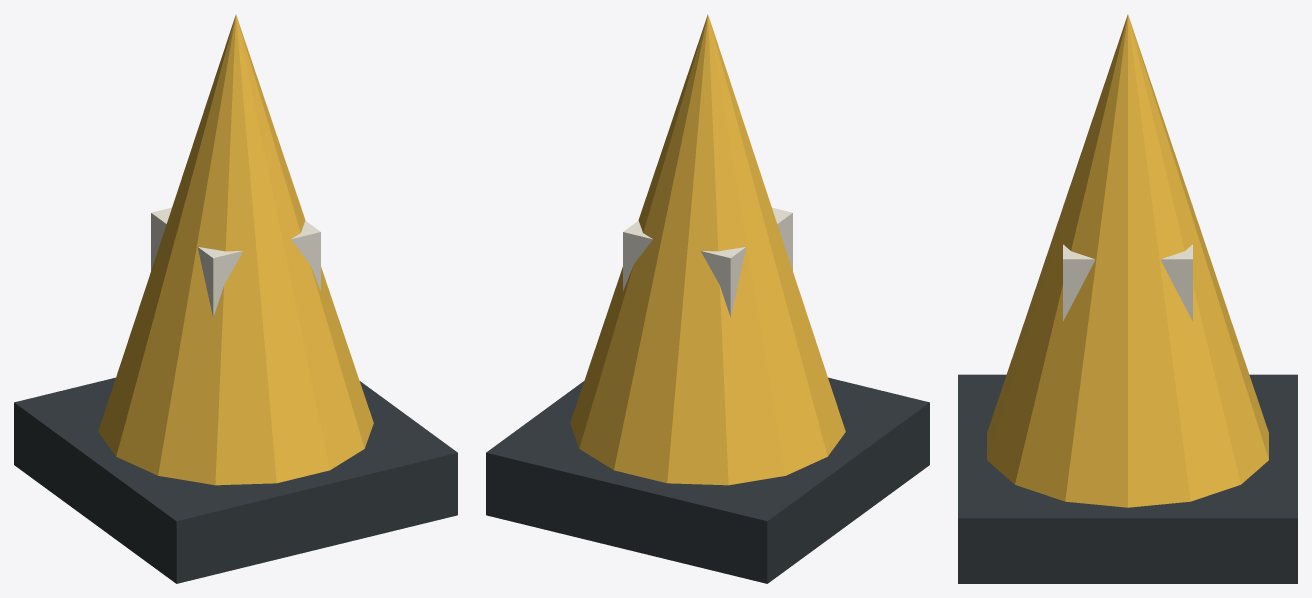
The model's file is traffic_cone.glb.
3 renders of one model, left to right at view 1: azimuth 30°, elevation 25°; view 2: azimuth 150°, elevation 25°; view 3: azimuth 270°, elevation 25°, orthographic. The views are drawn at different scales.
Visible parts, largest first — view 1: Orange_Cone, Base, Reflective_Ring; view 2: Orange_Cone, Base, Reflective_Ring; view 3: Orange_Cone, Base, Reflective_Ring.
Boxes of the visible parts, box(x1,y1,x2,y2) form: Orange_Cone: box(98, 14, 373, 485); Base: box(14, 377, 457, 583); Reflective_Ring: box(151, 207, 320, 317); Orange_Cone: box(570, 14, 845, 485); Base: box(486, 377, 929, 583); Reflective_Ring: box(623, 207, 792, 317); Orange_Cone: box(987, 14, 1268, 507); Base: box(958, 374, 1297, 583); Reflective_Ring: box(1063, 204, 1192, 321).
Bounding box in the file's own units: 0.47 × 0.76 × 0.47.
